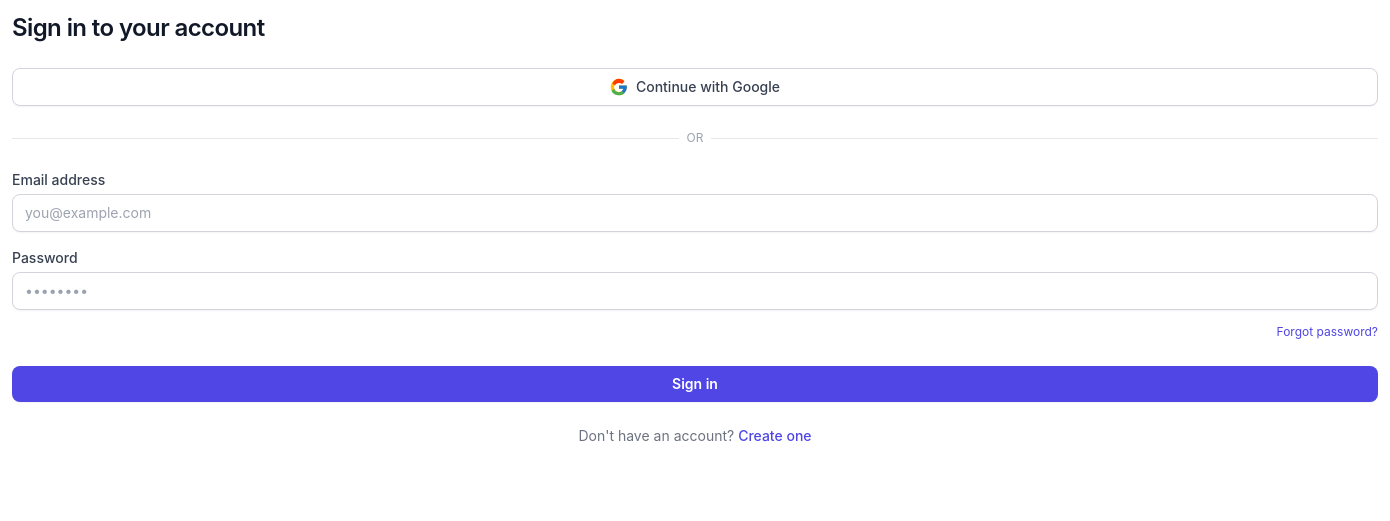
LoginPage › shows unverified email message when backend returns email_not_verified
Type "test@example.com" into the field labelled "Email address".
click(695, 213); type("test@example.com")  # box [12, 194, 1378, 232]
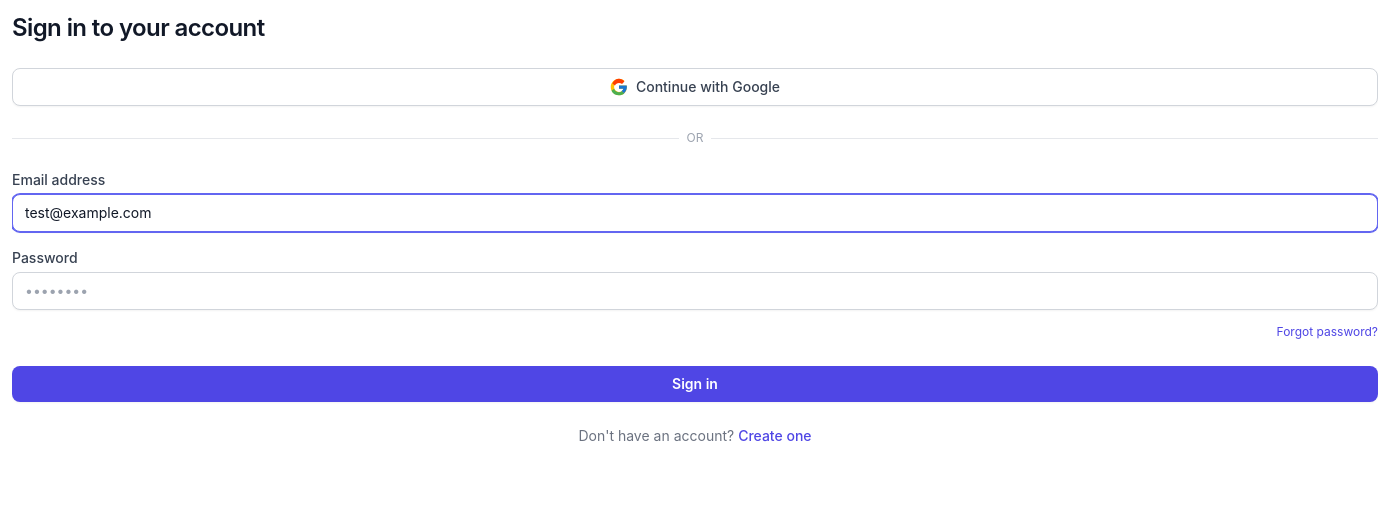
Type "password123" into the password field labelled "Password".
click(695, 291); type("password123")  # box [12, 272, 1378, 310]
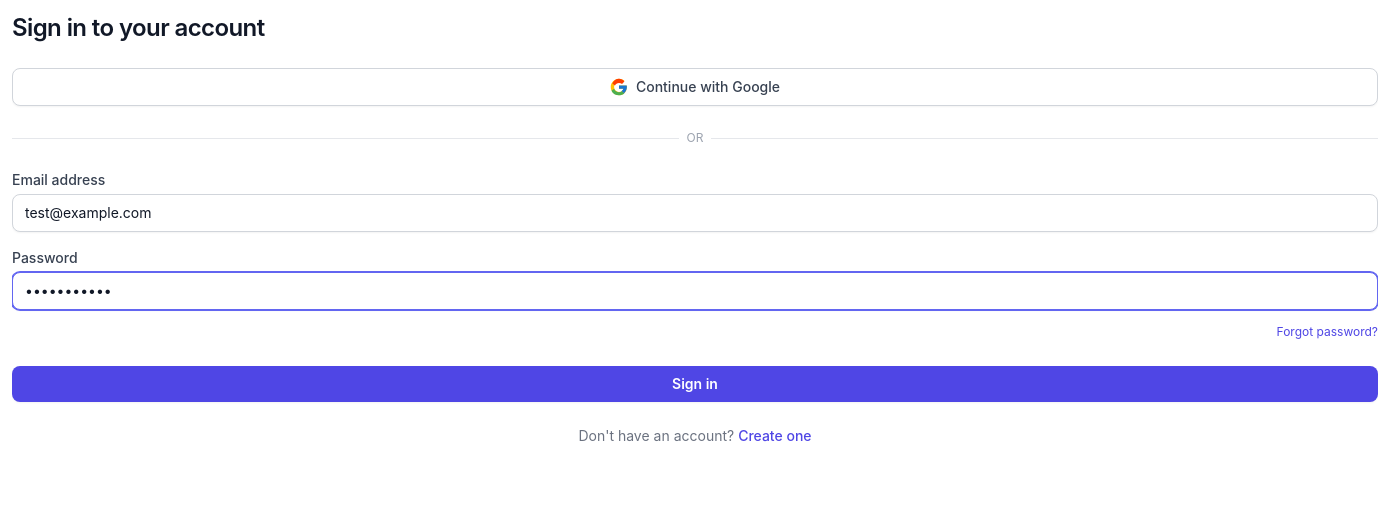
Click the button "Sign in".
click(695, 384)  # box [12, 366, 1378, 402]
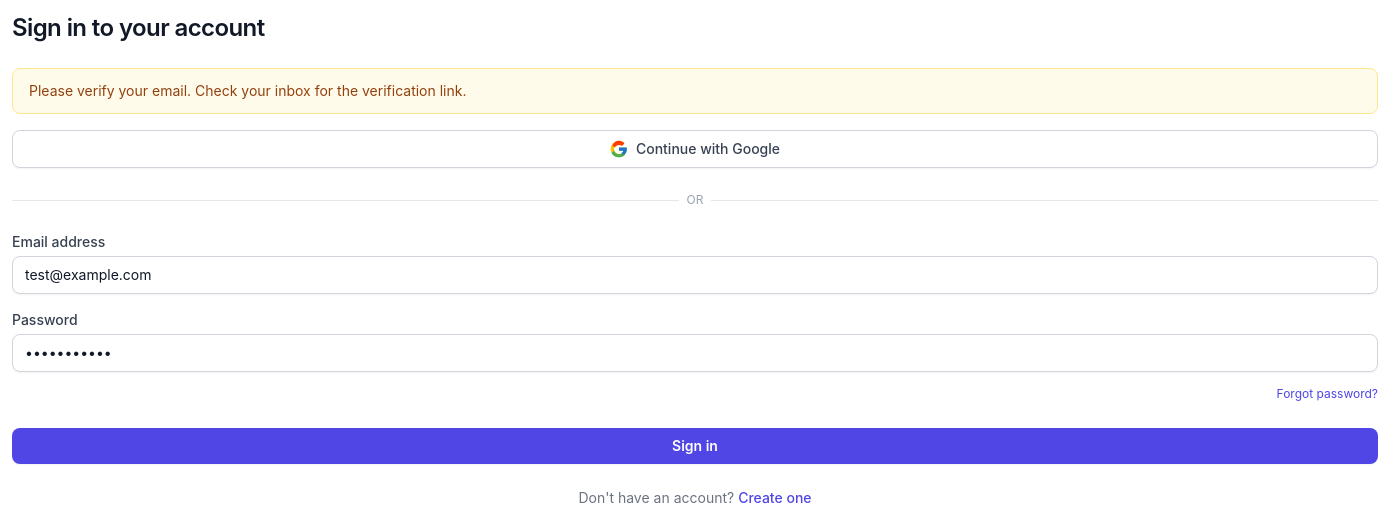
Check: the text "Please verify your email. Check your inbox for the verification link." is shown, box [12, 68, 1378, 114]
